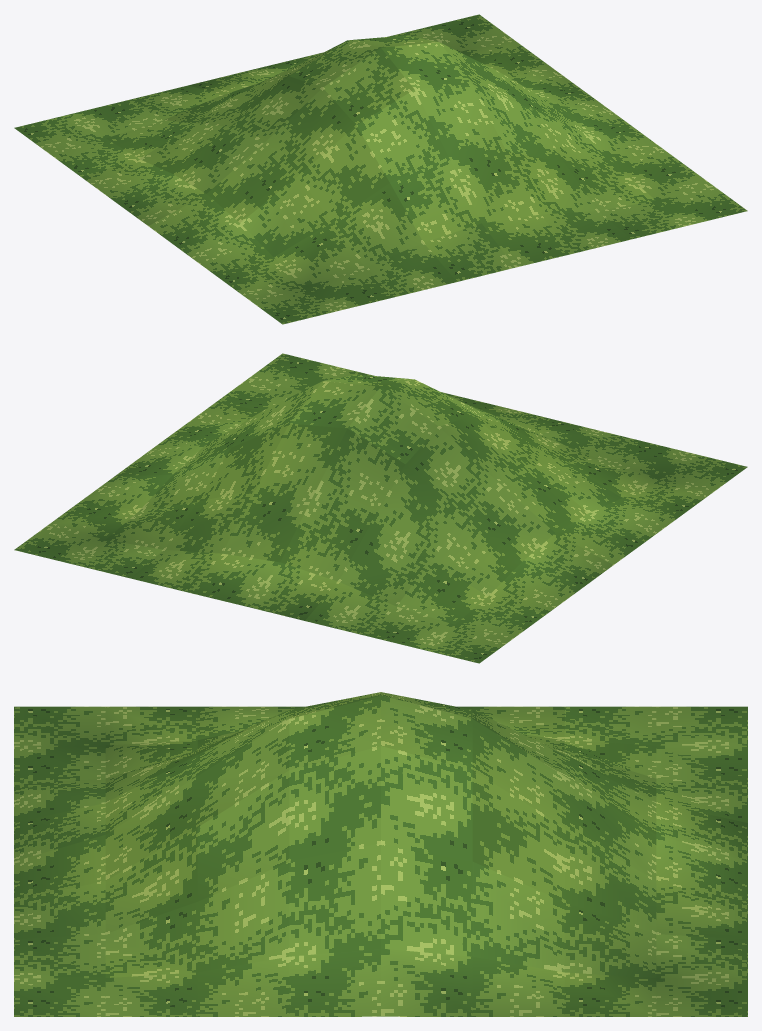
File: mter.hill.glb
3 views of the same model, one above another, from view 1: azimuth 30°, elevation 25°; view 2: azimuth 150°, elevation 25°; view 3: azimuth 270°, elevation 25° (orthographic). The views are drawn at different scales.
Visible parts, largest first — view 1: kit_shell_hill; view 2: kit_shell_hill; view 3: kit_shell_hill.
Part boxes in pixels (left/top/right/bottom): kit_shell_hill: left=14, top=14, right=747, bottom=324; kit_shell_hill: left=14, top=353, right=747, bottom=663; kit_shell_hill: left=14, top=692, right=747, bottom=1016.
Size of the model in its own units: 16 by 4 by 16.
1 material, 1 textured.
